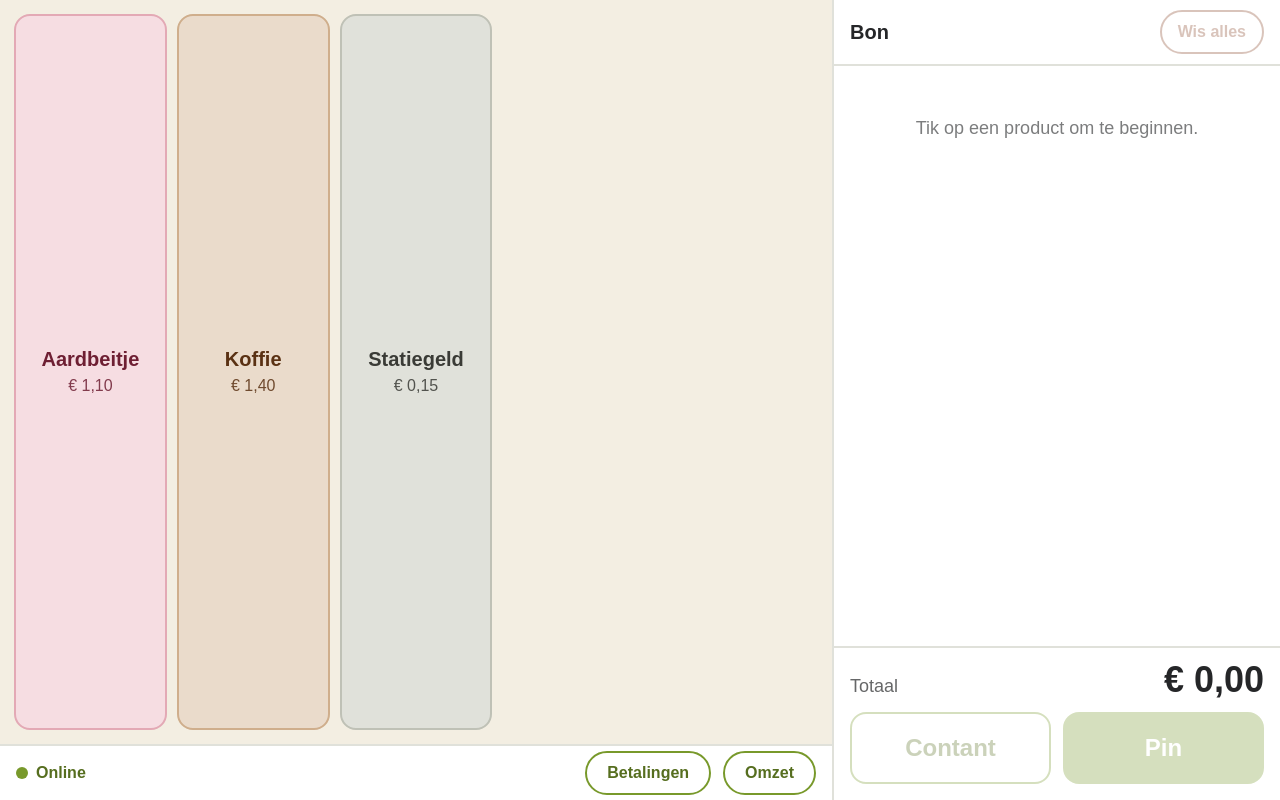
it: reports a sale the server refused, without holding up the rest
The width and height of the screenshot is (1280, 800).
What coordinates should you click on to do the following:
click the button "Aardbeitje € 1,10"
I would click on:
 (90, 372)
Its box is [14,14,167,730].
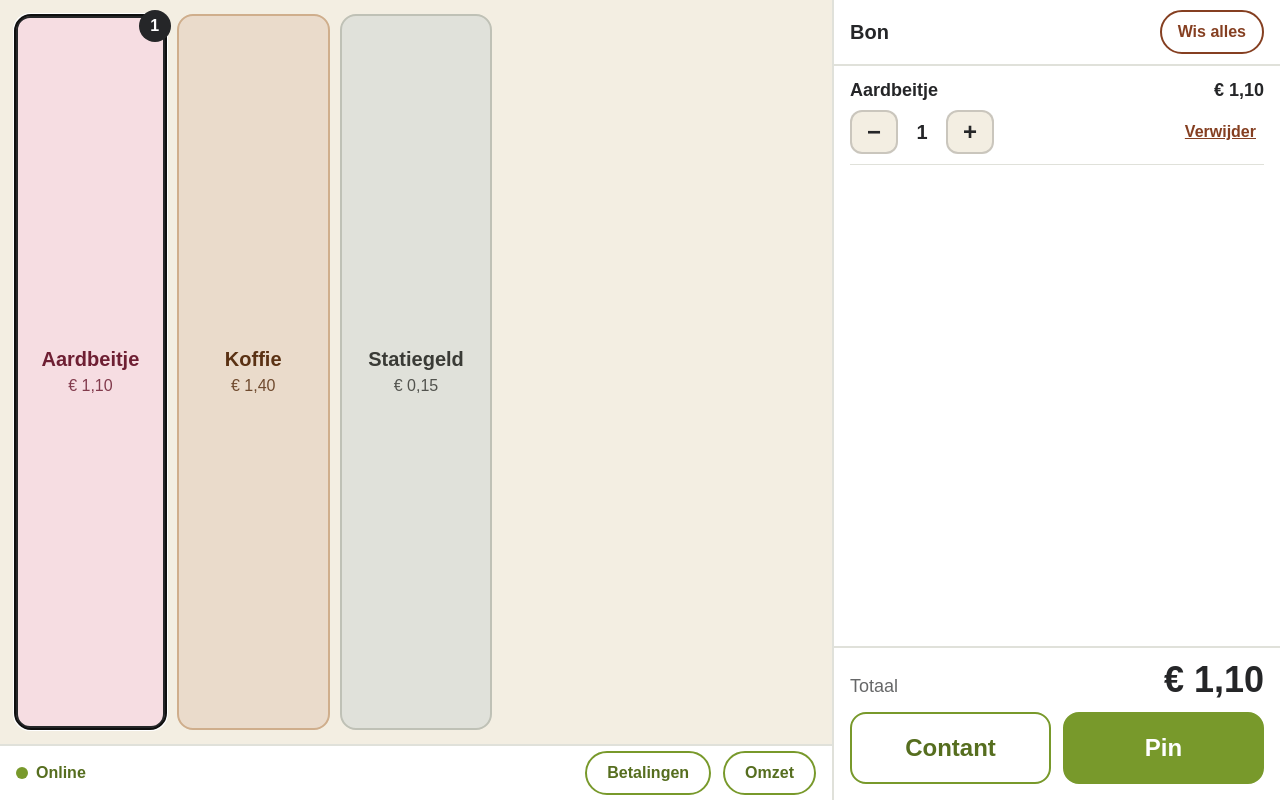
What coordinates should you click on to do the following:
click the button "Contant"
I would click on:
 (950, 748)
Its box is [850,712,1051,784].
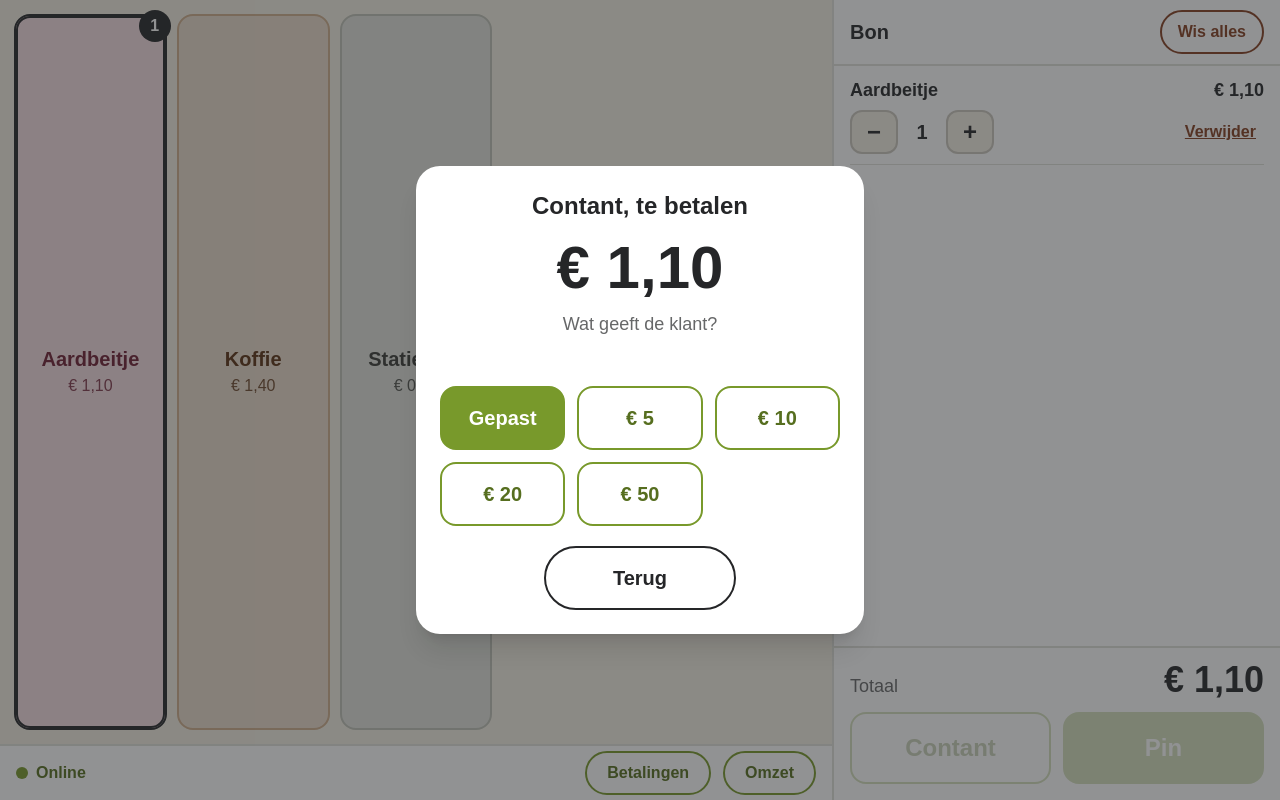
What coordinates should you click on to do the following:
click the button "Gepast"
I would click on:
 (503, 418)
Its box is [440,386,565,450].
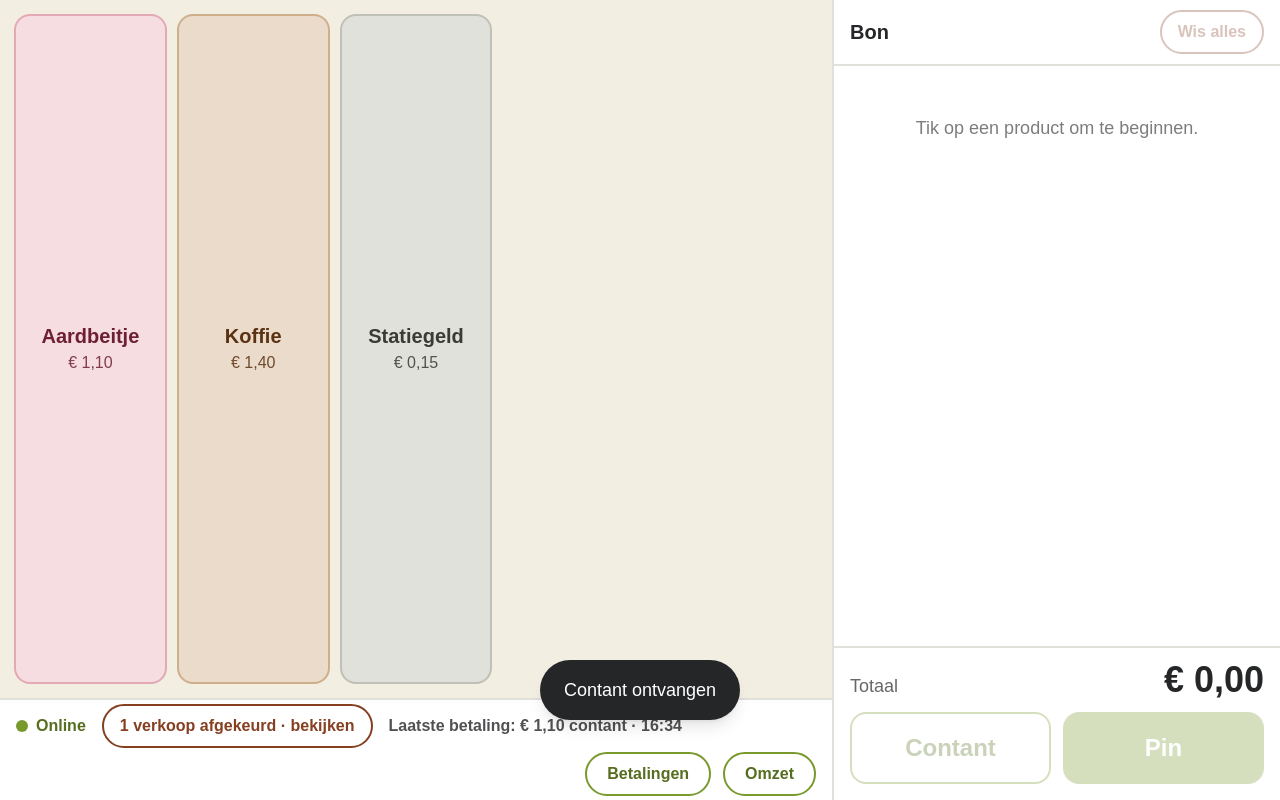
Now the button "1 verkoop afgekeurd · bekijken" is shown, box [102,704,373,748]
